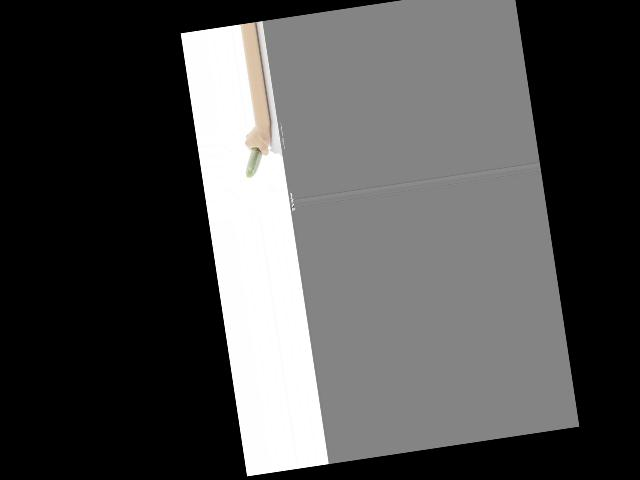cucumber: (242, 146, 265, 177)
